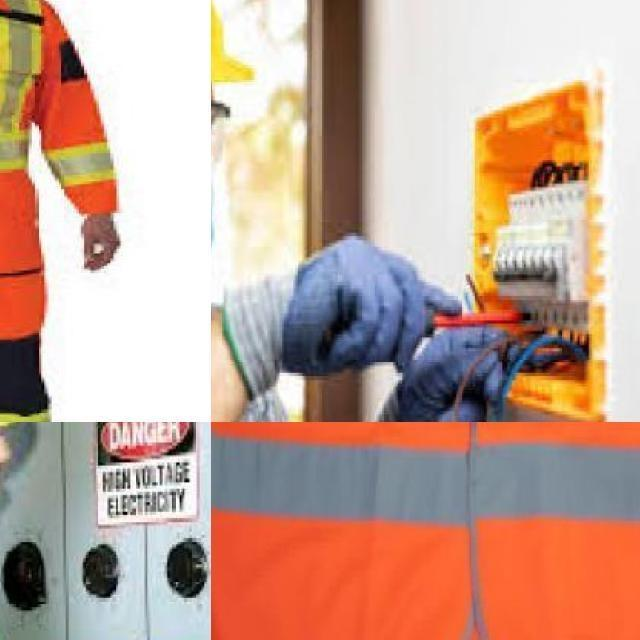apron: (228, 222, 436, 364), (350, 334, 507, 422)
